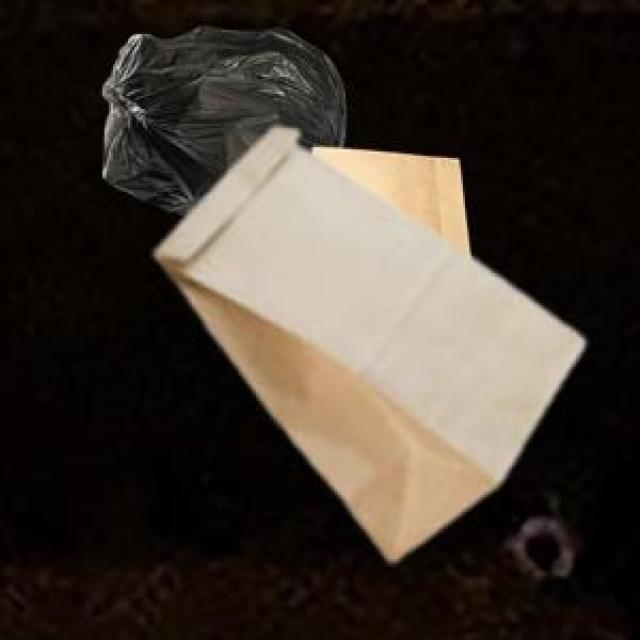miscellaneous trash: (98, 24, 341, 213)
paper: (152, 124, 580, 557), (309, 144, 465, 252)
